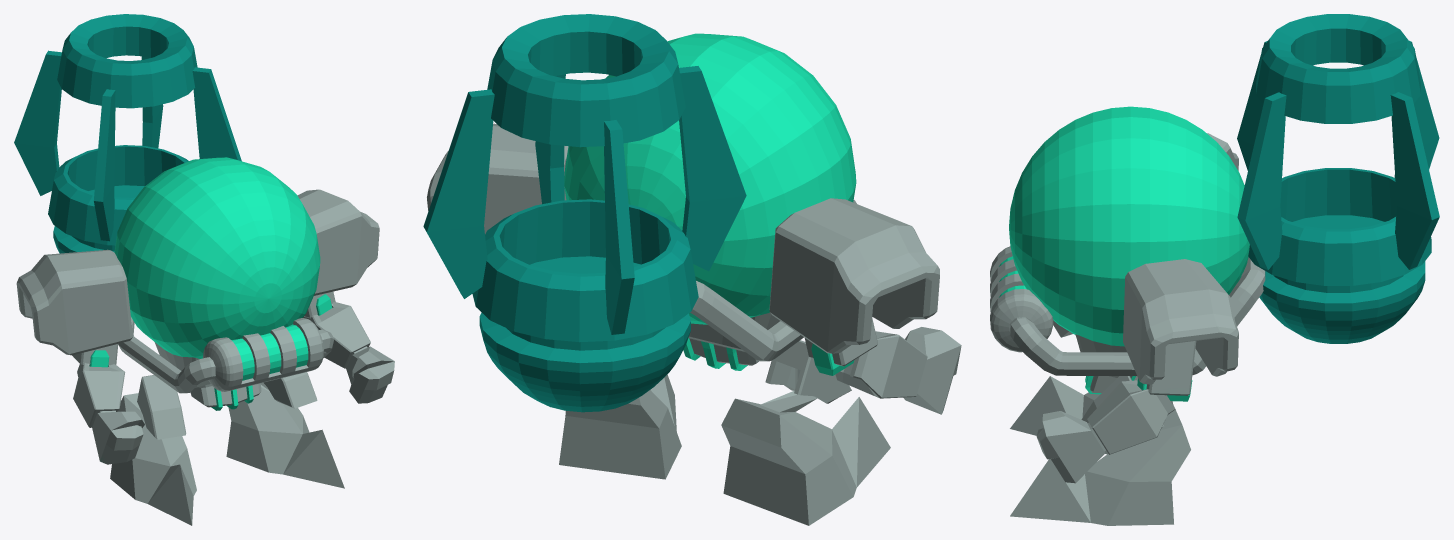
File: New_thrower.fbx
3 renders of one model, left to right at view 1: azimuth 30°, elevation 25°; view 2: azimuth 150°, elevation 25°; view 3: azimuth 270°, elevation 25°, orthographic. The views are drawn at different scales.
Parts seen in each view (by area): view 1: Head, Canon, R_pad, Mask, L_foot, R_foot, L_pad, R_hand, R_fist, R_leg, L_fist, L_hand (+4 smaller); view 2: Canon, Head, R_pad, R_foot, L_foot, L_pad, R_fist, Mask, R_hand, R_leg, Body, R_arm (+1 smaller); view 3: Canon, Head, L_pad, L_foot, Mask, L_fist, L_hand, R_foot, L_arm.
Part boxes in pixels (box(x1,y1,x2,y2)): Head: box(114, 157, 320, 387); Canon: box(14, 14, 241, 253); R_pad: box(16, 249, 132, 355); Mask: box(118, 317, 334, 393); L_foot: box(226, 385, 344, 488); R_foot: box(110, 393, 196, 525); L_pad: box(297, 189, 379, 295); R_hand: box(92, 410, 144, 464); R_fist: box(73, 362, 125, 427); R_leg: box(137, 375, 186, 439); L_fist: box(303, 302, 370, 368); L_hand: box(346, 346, 394, 403); Canon: box(423, 14, 746, 412); Head: box(564, 33, 856, 351); R_pad: box(769, 198, 939, 353); R_foot: box(721, 397, 890, 525); L_foot: box(559, 374, 681, 479); L_pad: box(427, 123, 568, 234); R_fist: box(835, 331, 927, 398); Mask: box(690, 200, 856, 361); R_hand: box(903, 327, 961, 414); R_leg: box(765, 340, 851, 403); Body: box(683, 338, 759, 370); R_arm: box(804, 318, 877, 375); Canon: box(1237, 14, 1439, 343); Head: box(1009, 106, 1249, 352); L_pad: box(1123, 259, 1238, 384); L_foot: box(1010, 404, 1190, 525); Mask: box(990, 246, 1265, 375); L_fist: box(1087, 380, 1175, 454); L_hand: box(1036, 411, 1105, 483); R_foot: box(1010, 376, 1172, 454); L_arm: box(1137, 341, 1196, 401).
Size of the model in its own units: 18.85 by 19.09 by 18.06.
Materials: 2 (2 with a texture image).
